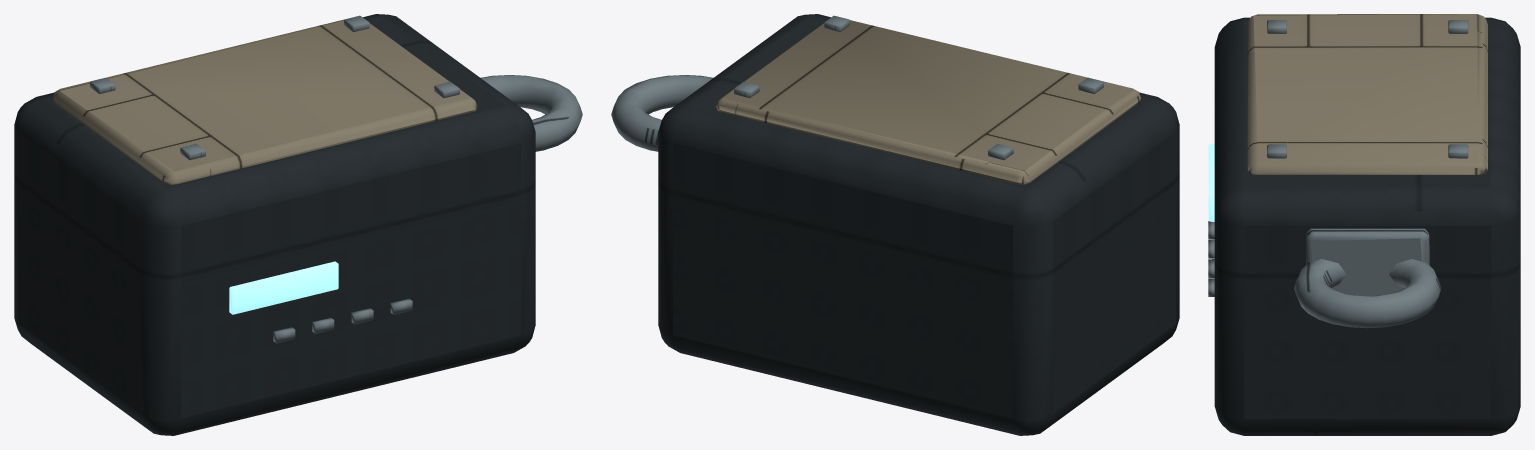
File: thimble_recorder_lod1.glb
3 renders of one model, left to right at view 1: azimuth 30°, elevation 25°; view 2: azimuth 150°, elevation 25°; view 3: azimuth 270°, elevation 25°, orthographic.
Visible parts, largest first — view 1: LOD1_MechanicalDark, LOD1_Armor, LOD1_BrushedMetal, LOD1_Lights_Cyan; view 2: LOD1_MechanicalDark, LOD1_Armor, LOD1_BrushedMetal; view 3: LOD1_MechanicalDark, LOD1_Armor, LOD1_BrushedMetal, LOD1_Lights_Cyan.
Part boxes in pixels (x1,y1,x2,y2): LOD1_MechanicalDark: [14, 14, 535, 435]; LOD1_Armor: [53, 19, 477, 184]; LOD1_BrushedMetal: [90, 15, 582, 343]; LOD1_Lights_Cyan: [229, 261, 338, 314]; LOD1_MechanicalDark: [658, 14, 1179, 435]; LOD1_Armor: [716, 20, 1140, 184]; LOD1_BrushedMetal: [611, 15, 1103, 160]; LOD1_MechanicalDark: [1214, 17, 1520, 435]; LOD1_Armor: [1247, 14, 1487, 174]; LOD1_BrushedMetal: [1208, 20, 1468, 328]; LOD1_Lights_Cyan: [1208, 144, 1214, 221].
Size of what is drawn, in the model's own units: 2.53 by 1.29 by 1.38.
Materials: 4 (3 with a texture image).
